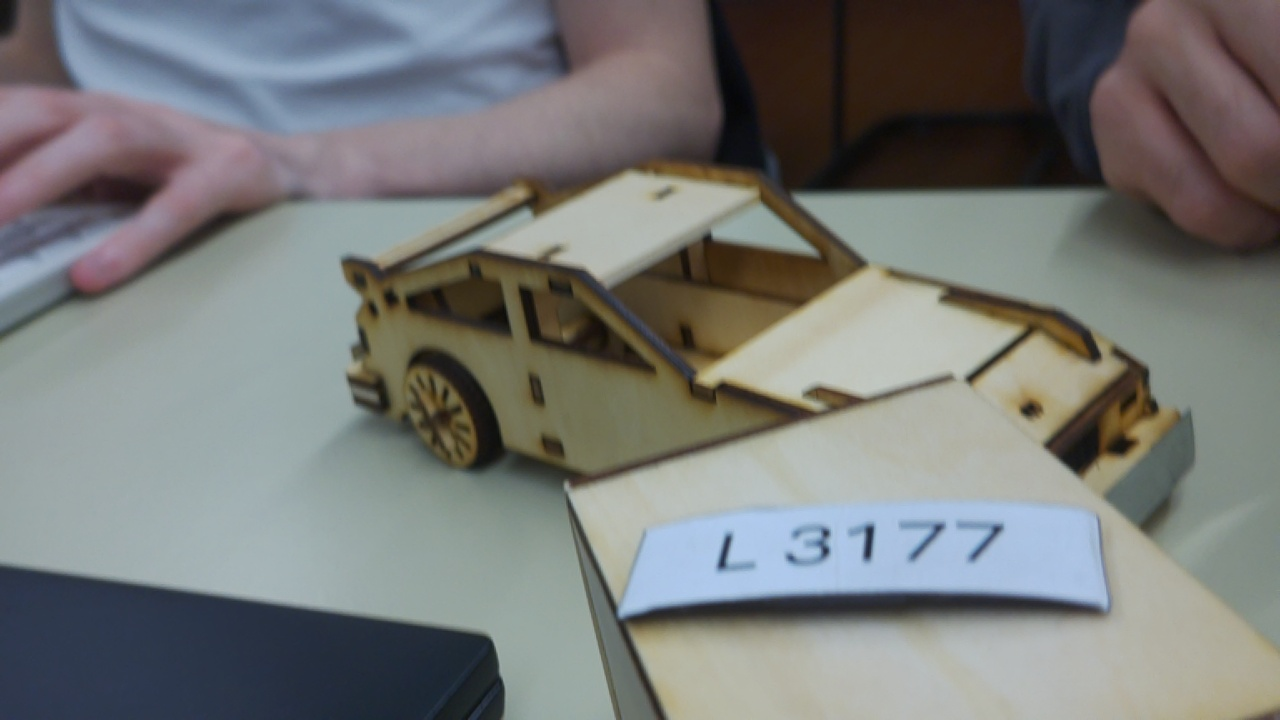license_plate: (605, 497, 1112, 630)
